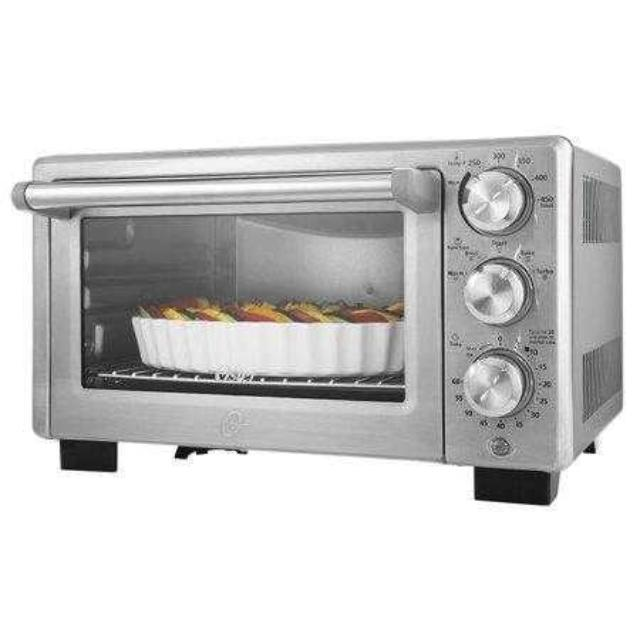Oven: (12, 145, 608, 482)
